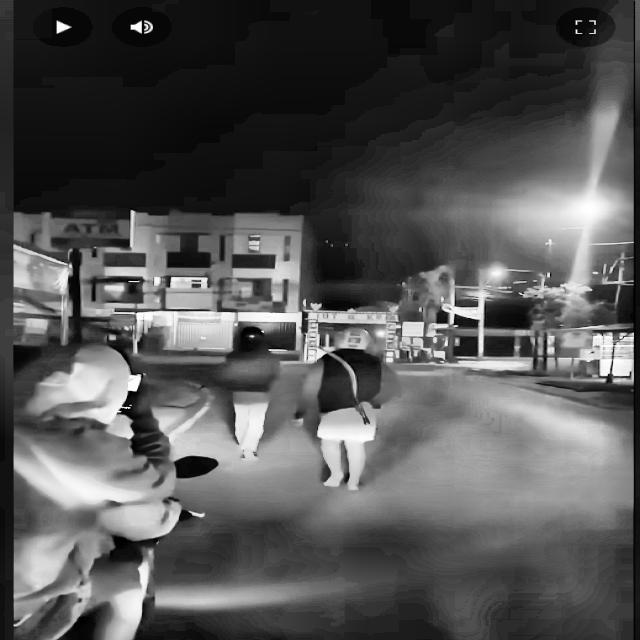celurit: (293, 333, 382, 431)
robbery: (0, 321, 424, 640)
